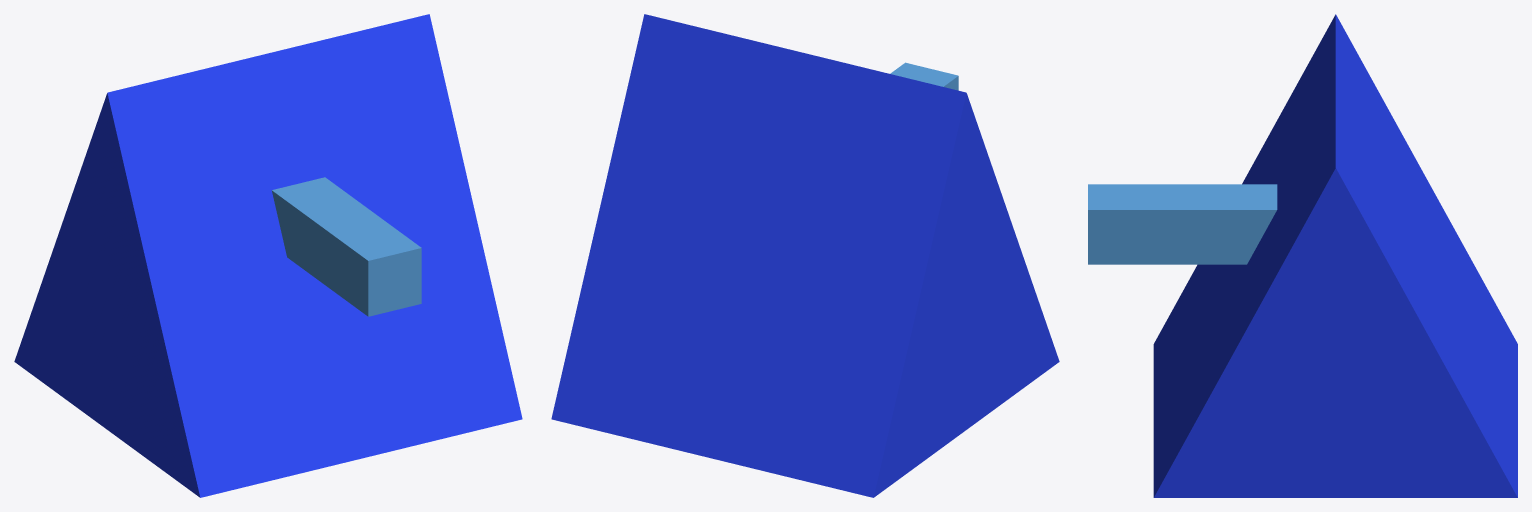
Rendered from player.dae.
The picture shows the model from 3 angles, left to right: view 1: azimuth 30°, elevation 25°; view 2: azimuth 150°, elevation 25°; view 3: azimuth 270°, elevation 25°; orthographic projection. The views are drawn at different scales.
Visible parts, largest first — view 1: Cube, Cube.001; view 2: Cube, Cube.001; view 3: Cube, Cube.001.
Boxes of the visible parts, x1,y1,x2,y2 form: Cube: [14, 14, 522, 497]; Cube.001: [272, 177, 421, 316]; Cube: [551, 14, 1059, 497]; Cube.001: [890, 62, 958, 90]; Cube: [1153, 14, 1517, 497]; Cube.001: [1088, 184, 1277, 264].
Bounding box in the file's own units: 1.22 × 1.44 × 1.22.
Materials: 2 (2 with a texture image).
